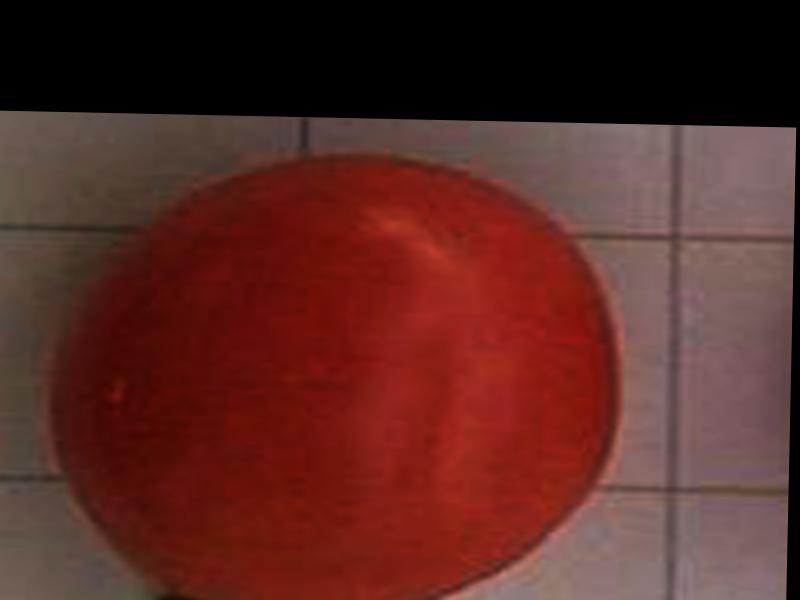Tomato: (45, 148, 623, 600)
